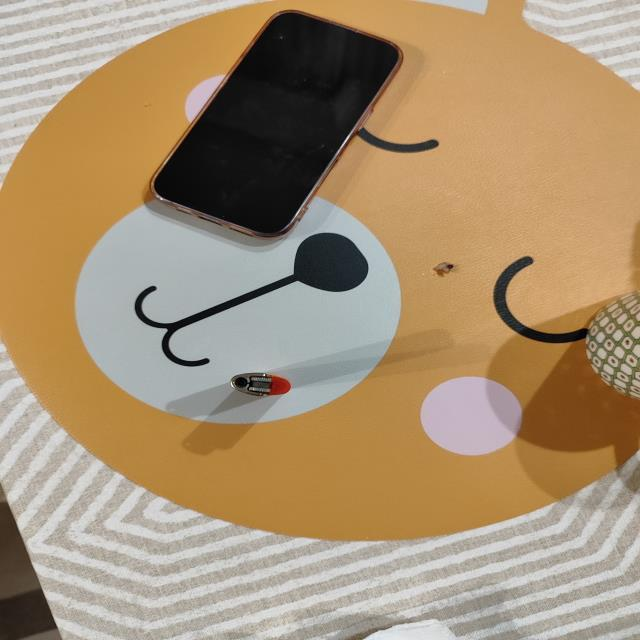lighter: (231, 373, 290, 395)
